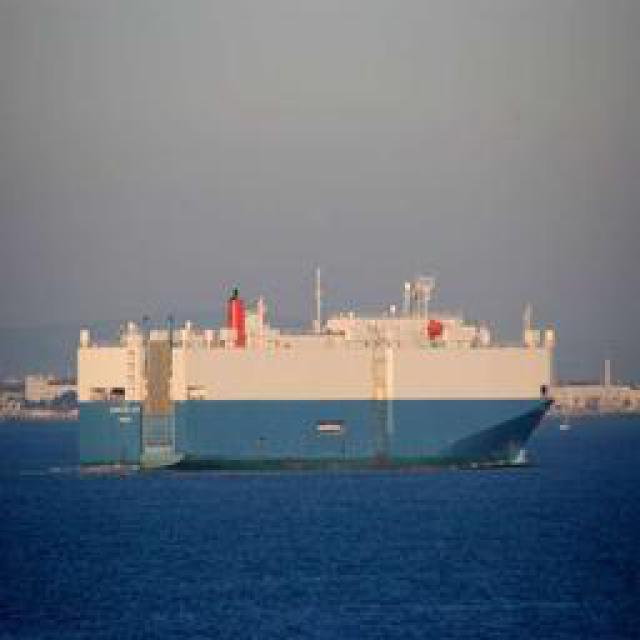Ship: (127, 310, 560, 470)
